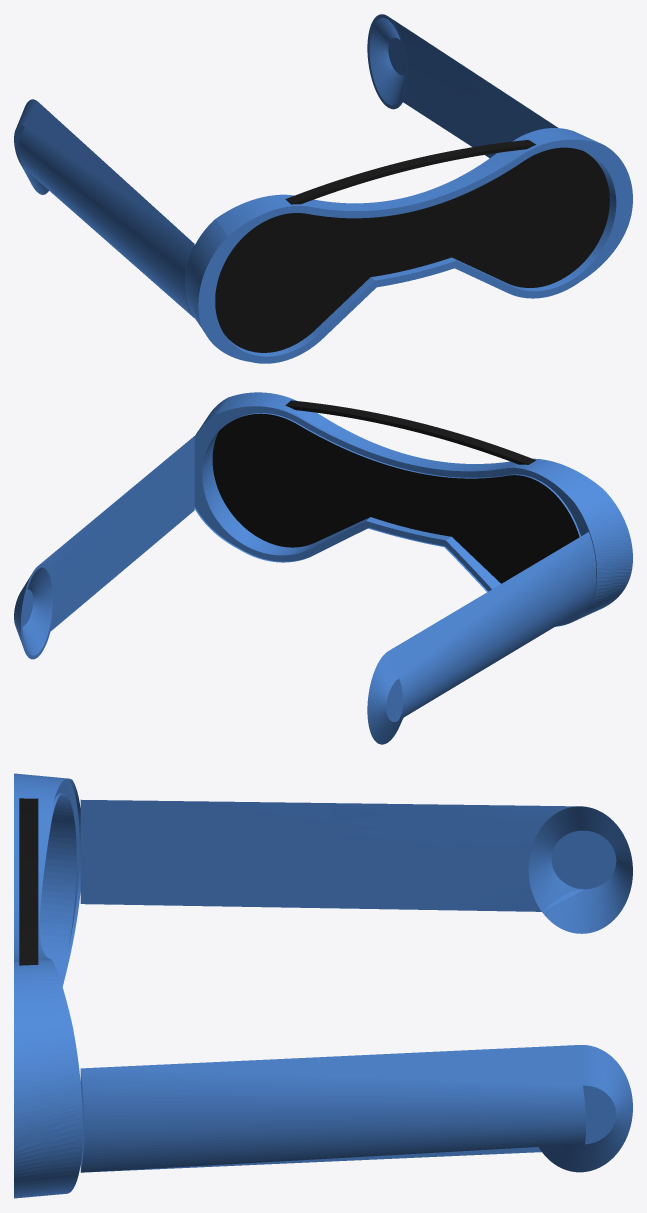
File: goggle.fbx
3 renders of one model, top to bottom at view 1: azimuth 30°, elevation 25°; view 2: azimuth 150°, elevation 25°; view 3: azimuth 270°, elevation 25°, orthographic. The views are drawn at different scales.
Parts seen in each view (by area): view 1: 개체_18, 개체_17, 개체_10, 개체_7, 개체_16, 개체_11, 개체_19, 개체_15, 개체_3, 개체_1, 개체_2, 개체_8 (+1 smaller); view 2: 개체_18, 개체_10, 개체_7, 개체_16, 개체_1, 개체_15, 개체_11, 개체_19, 개체_9, 개체_3, 개체_14, 개체_2; view 3: 개체_13, 개체_5, 개체_16, 개체_6, 개체_9, 개체_15, 개체_4, 개체_19, 개체_14, 개체_7, 개체_1, 개체_8.
Boxes of the visible parts, bbox=[...] form: 개체_18: bbox=[215, 147, 609, 352]; 개체_17: bbox=[198, 139, 632, 363]; 개체_10: bbox=[18, 127, 194, 317]; 개체_7: bbox=[390, 18, 557, 158]; 개체_16: bbox=[185, 128, 601, 331]; 개체_11: bbox=[25, 101, 194, 244]; 개체_19: bbox=[285, 140, 535, 204]; 개체_15: bbox=[226, 152, 616, 356]; 개체_3: bbox=[369, 18, 407, 105]; 개체_1: bbox=[252, 140, 616, 355]; 개체_2: bbox=[367, 14, 407, 109]; 개체_8: bbox=[388, 37, 408, 75]; 개체_18: bbox=[212, 413, 579, 583]; 개체_10: bbox=[398, 533, 596, 720]; 개체_7: bbox=[39, 436, 194, 630]; 개체_16: bbox=[194, 392, 632, 626]; 개체_1: bbox=[194, 406, 596, 625]; 개체_15: bbox=[202, 413, 580, 589]; 개체_11: bbox=[388, 532, 588, 677]; 개체_19: bbox=[285, 400, 535, 464]; 개체_9: bbox=[367, 651, 403, 744]; 개체_3: bbox=[20, 567, 52, 655]; 개체_14: bbox=[386, 678, 402, 721]; 개체_2: bbox=[21, 564, 54, 659]; 개체_13: bbox=[80, 799, 575, 911]; 개체_5: bbox=[80, 1068, 585, 1172]; 개체_16: bbox=[14, 773, 82, 1198]; 개체_6: bbox=[80, 1045, 582, 1085]; 개체_9: bbox=[528, 806, 632, 933]; 개체_15: bbox=[39, 793, 76, 981]; 개체_4: bbox=[539, 1045, 632, 1172]; 개체_19: bbox=[19, 798, 38, 965]; 개체_14: bbox=[551, 830, 616, 889]; 개체_7: bbox=[80, 1070, 541, 1172]; 개체_1: bbox=[42, 779, 79, 976]; 개체_8: bbox=[583, 1085, 616, 1144].
Bounding box in the file's own units: 26 × 22.96 × 9.27.
